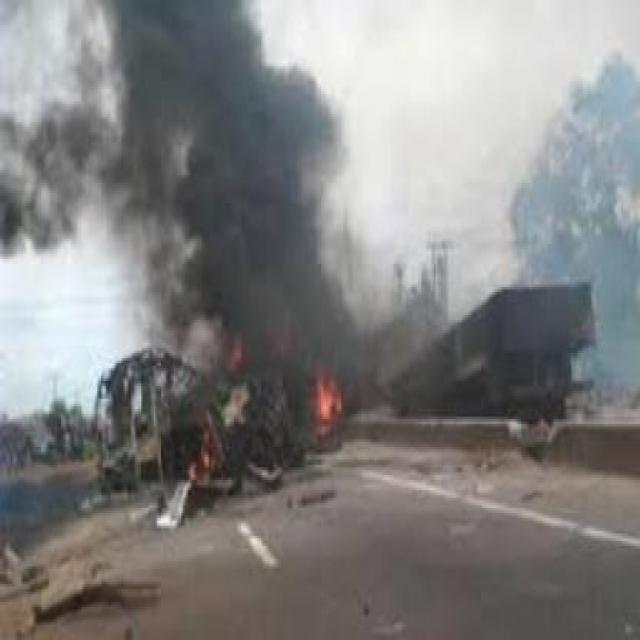accident: (69, 322, 286, 506)
